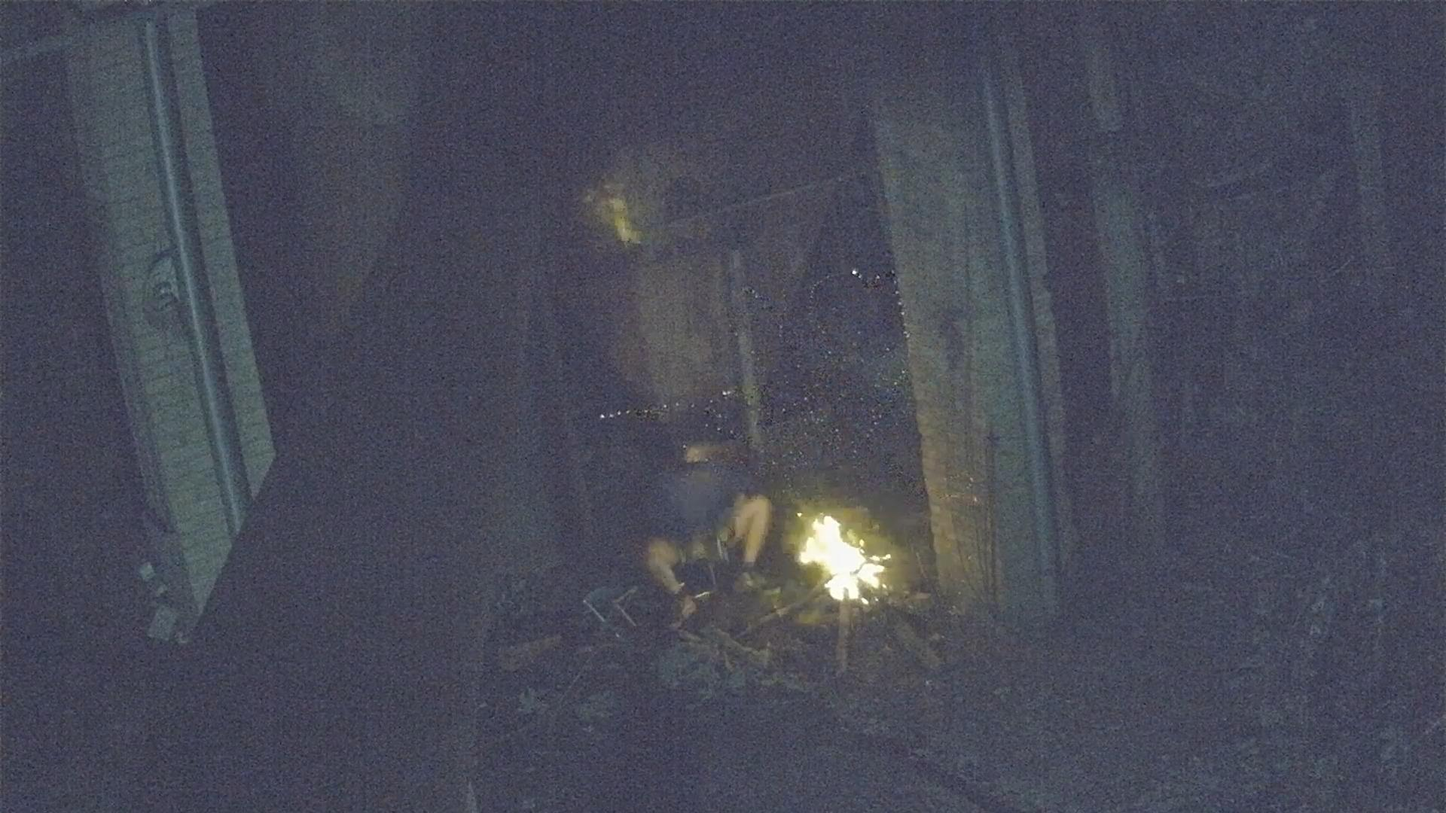fire: (798, 515, 883, 601)
